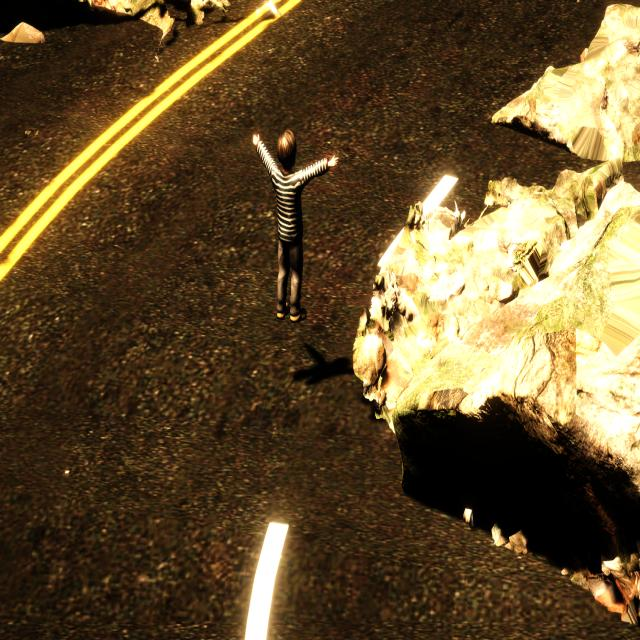Human: (250, 120, 340, 329)
